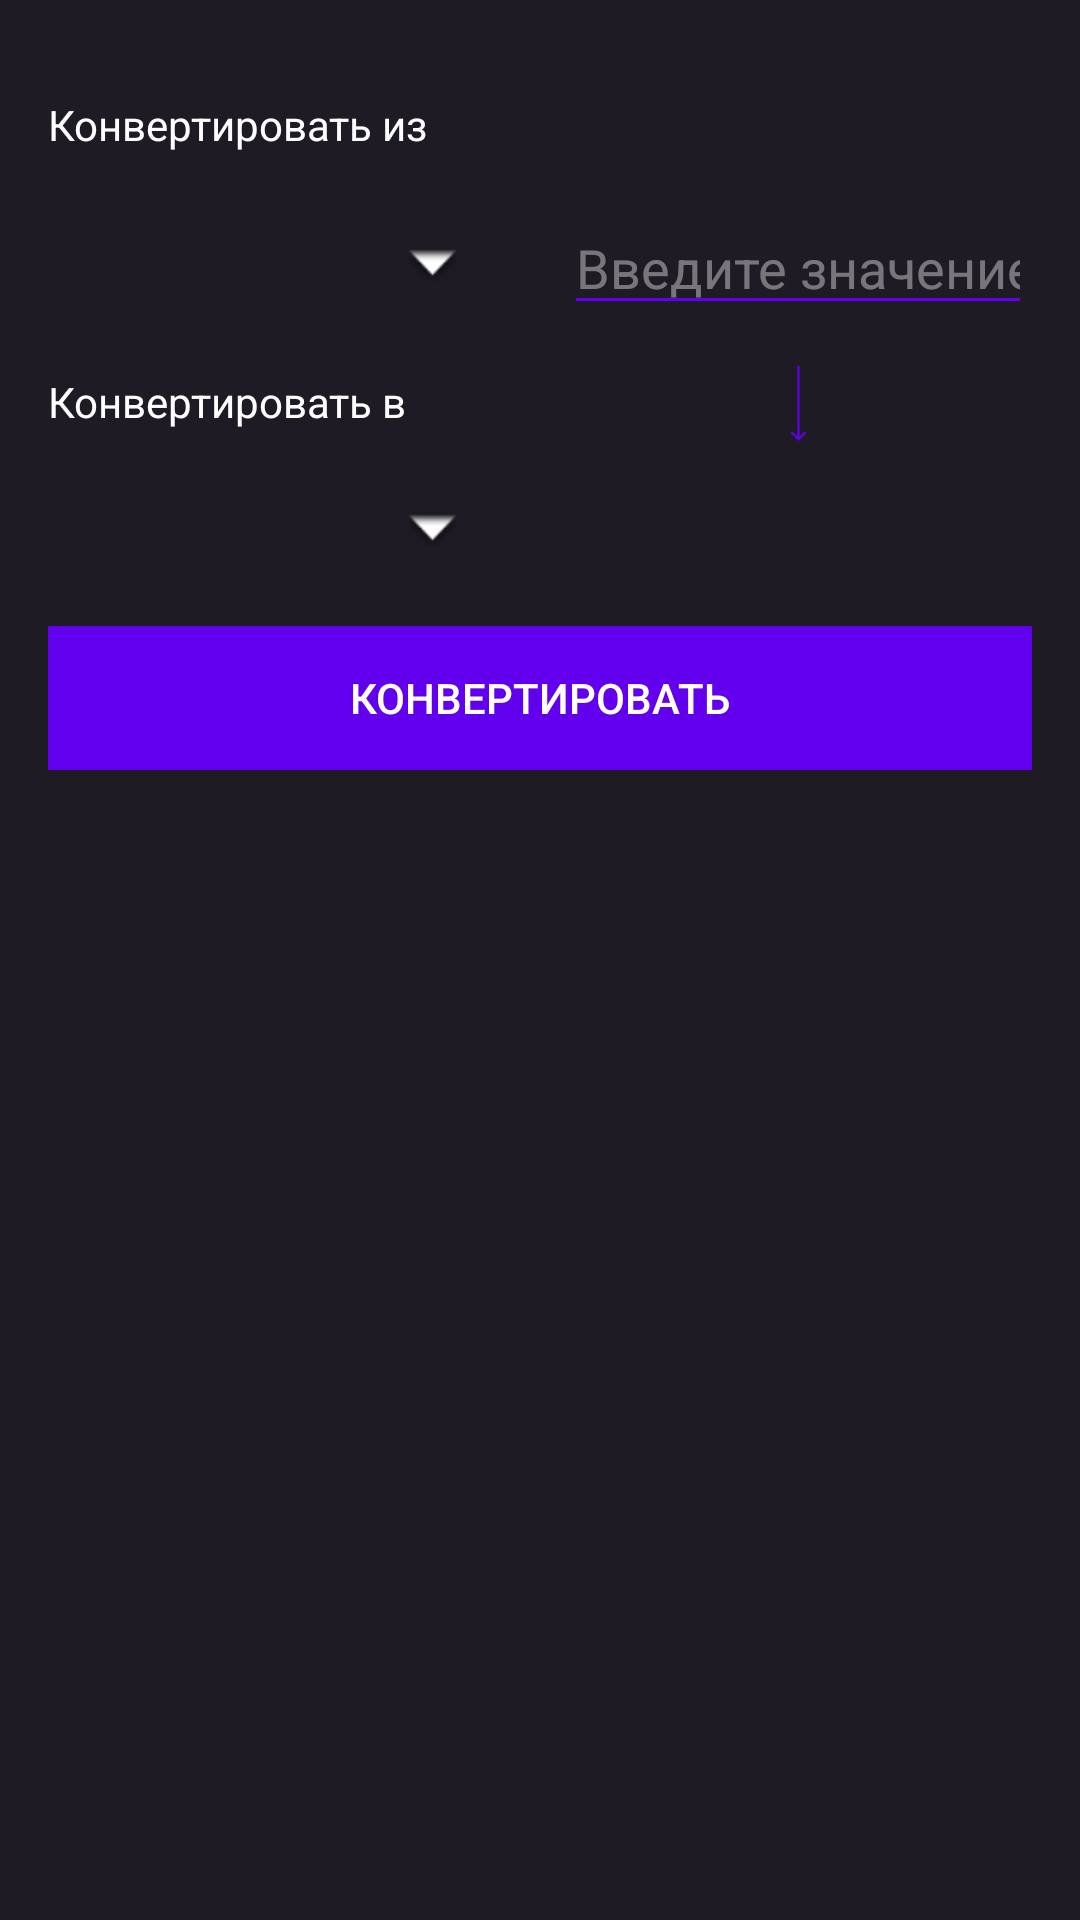

Locate icon controls on the screen. Image size 1080px×1920px, boxes as (x1, y1, x2, y2).
arrow down: (790, 365, 807, 441)
